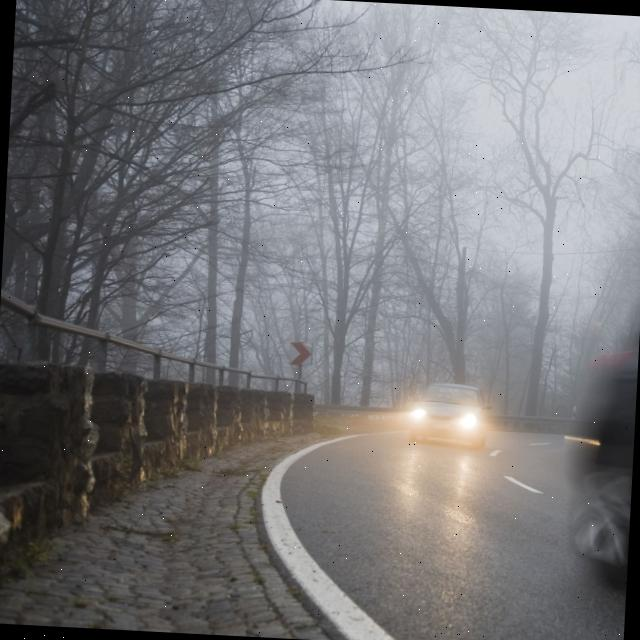car: (560, 249, 640, 584), (410, 380, 489, 450)
